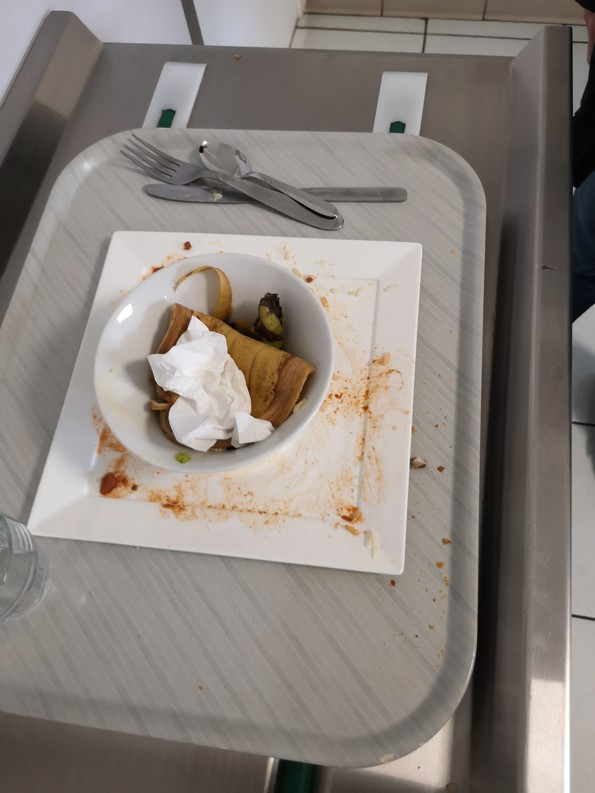cutlery: (109, 123, 412, 240)
orga: (211, 282, 323, 409)
trash: (160, 332, 256, 442)
